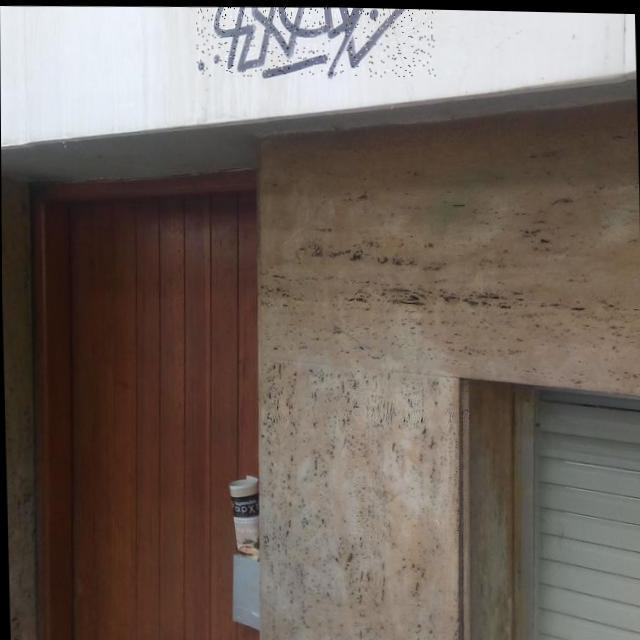-: (195, 3, 434, 78)
